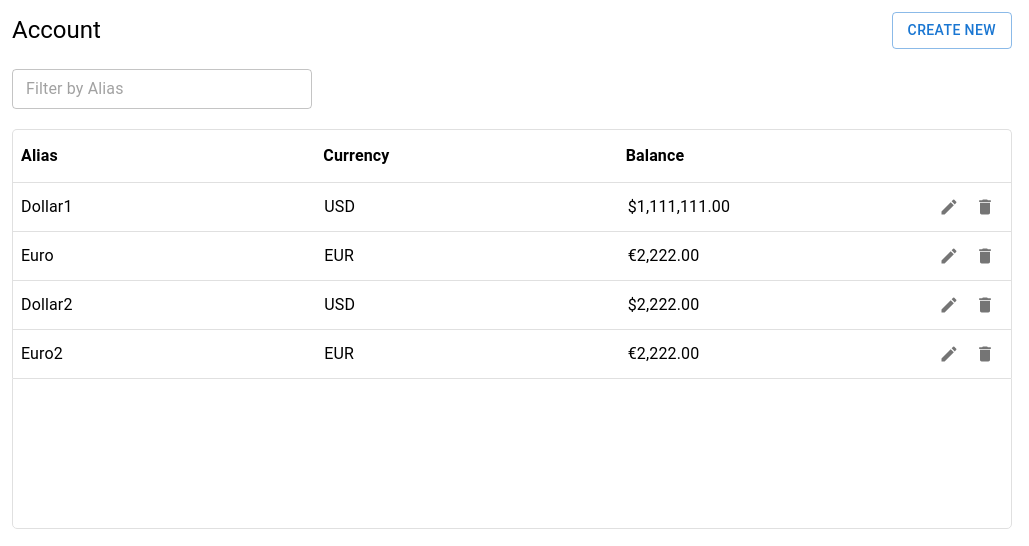
Page › filters accounts by alias
Click the field with placeholder "Filter by Alias" at (162, 88), box [12, 68, 312, 108]
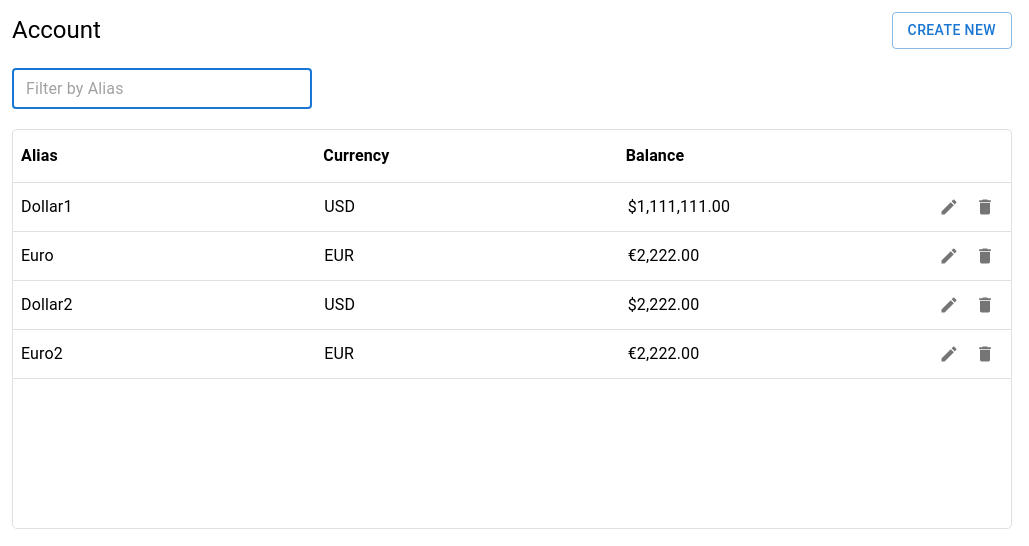
Type keys "Dollar"
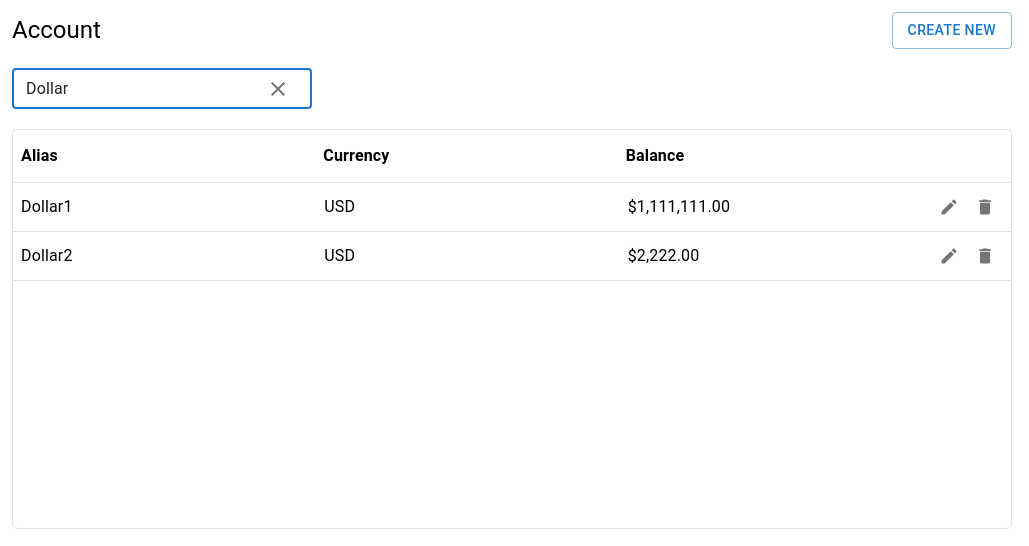
Expected: the element with test id "Dollar1" is shown, [12, 182, 1012, 230]
Result: the element with test id "Euro" is gone
Result: the element with test id "Euro2" is gone
